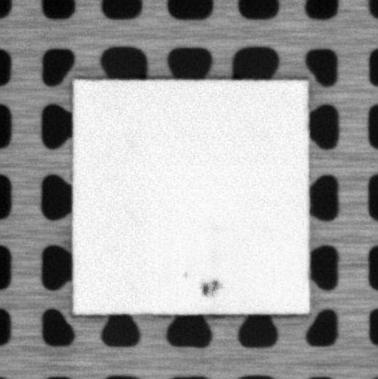DIE_INK: (201, 278, 221, 297)
